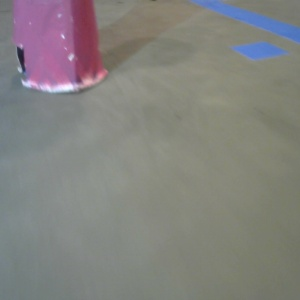right: (201, 1, 263, 41)
